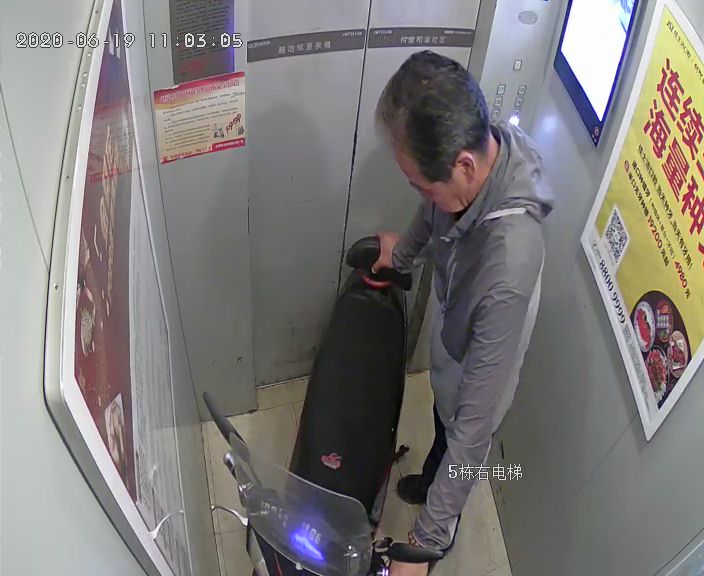Electric-bicycle: (202, 236, 437, 575)
